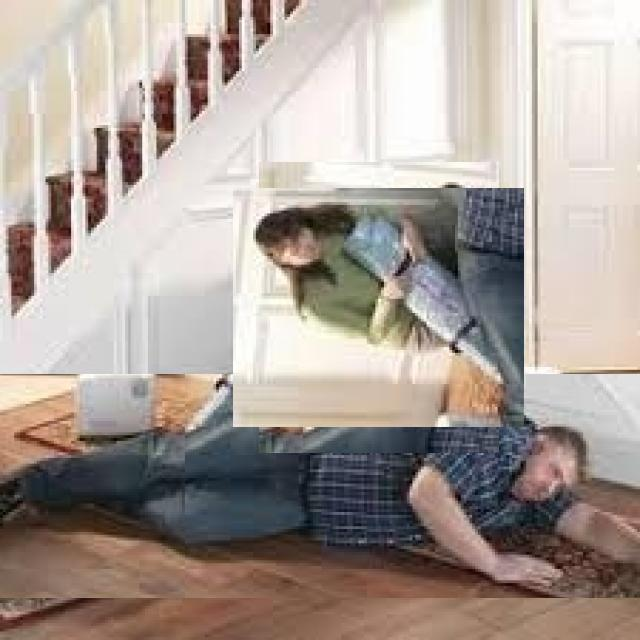Fall: (30, 392, 616, 630)
NotFall: (214, 196, 531, 384)
